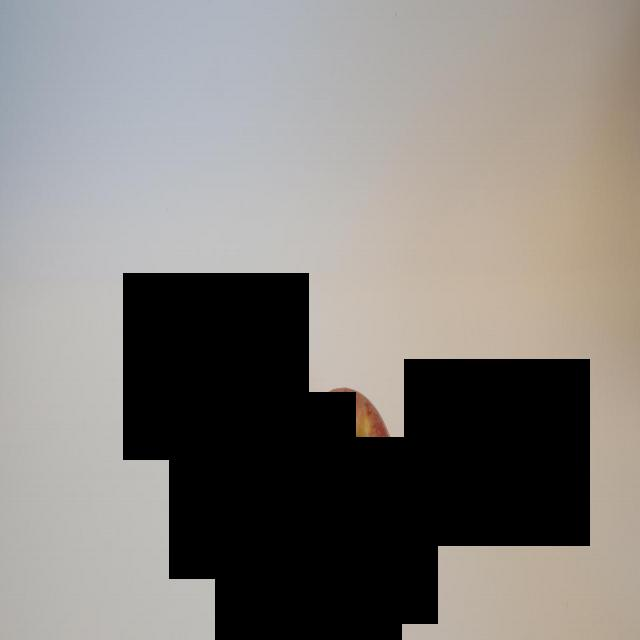apple: (300, 384, 400, 570)
